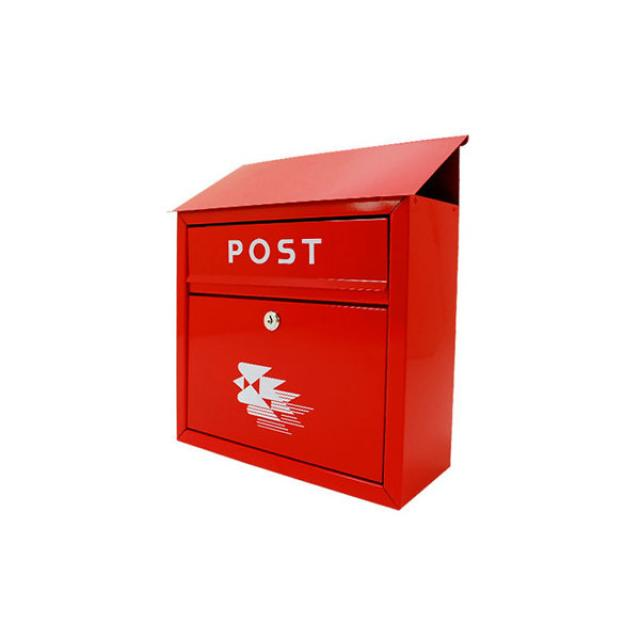Post Box: (158, 131, 472, 510)
